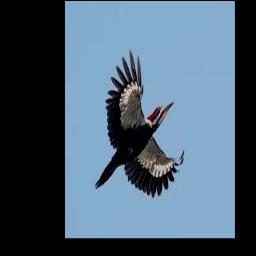Woodpecker: (95, 49, 184, 197)
